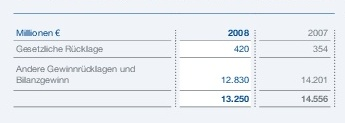table: (0, 0, 345, 123)
